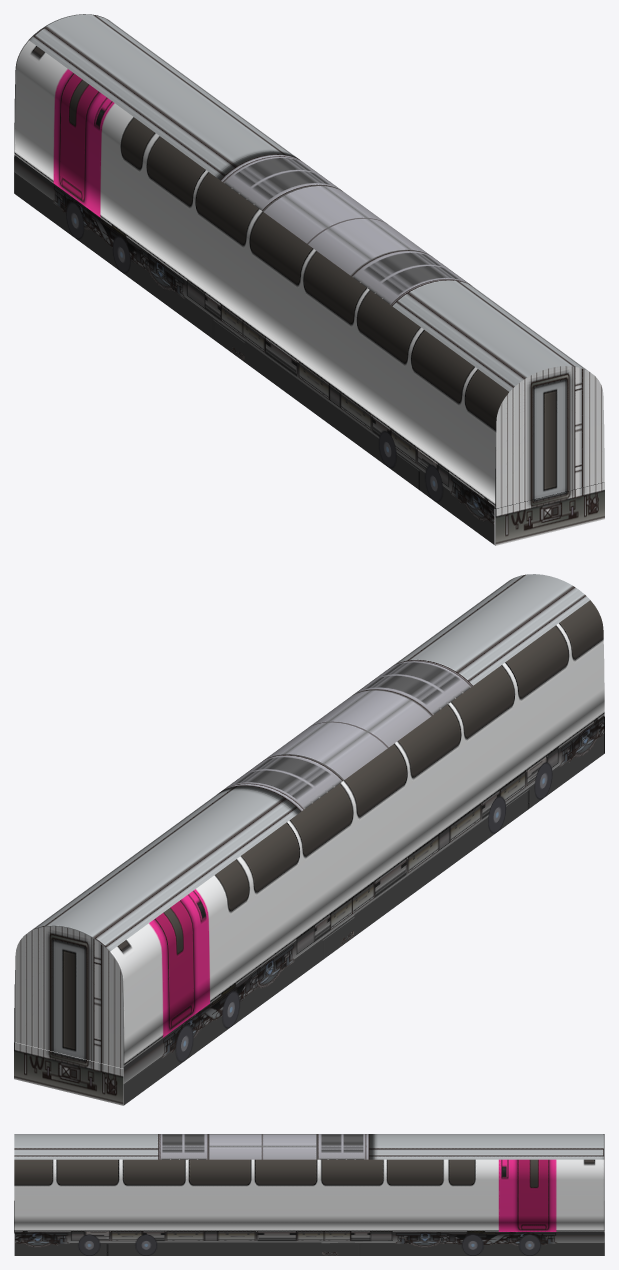
Rendered from car2.glb.
3 views of the same model, one above another, from view 1: azimuth 30°, elevation 25°; view 2: azimuth 150°, elevation 25°; view 3: azimuth 270°, elevation 25° (orthographic). The views are drawn at different scales.
Visible parts, largest first — view 1: jr_hokkaido_kiha261_5000_hamanasu; view 2: jr_hokkaido_kiha261_5000_hamanasu; view 3: jr_hokkaido_kiha261_5000_hamanasu.
Part boxes in pixels (x1,y1,x2,y2): jr_hokkaido_kiha261_5000_hamanasu: (14,14,604,545); jr_hokkaido_kiha261_5000_hamanasu: (14,574,604,1105); jr_hokkaido_kiha261_5000_hamanasu: (14,1134,604,1255).
Bounding box in the file's own units: 2.8 × 4.01 × 21.33.
6 materials, 5 textured.
